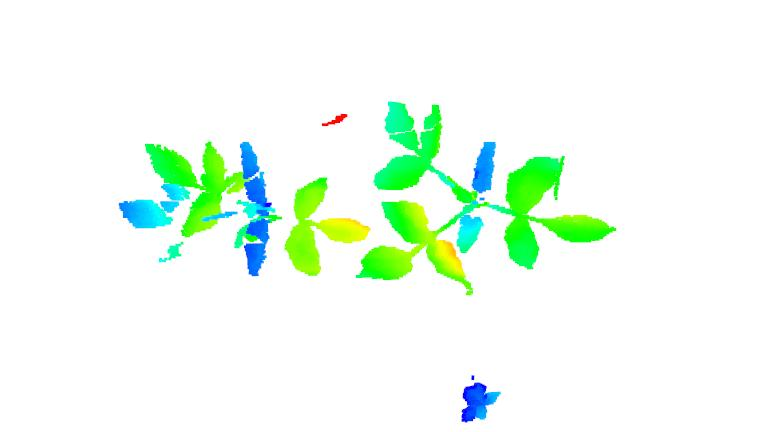mungbean: (361, 99, 615, 296), (118, 137, 372, 278), (455, 374, 502, 430)
